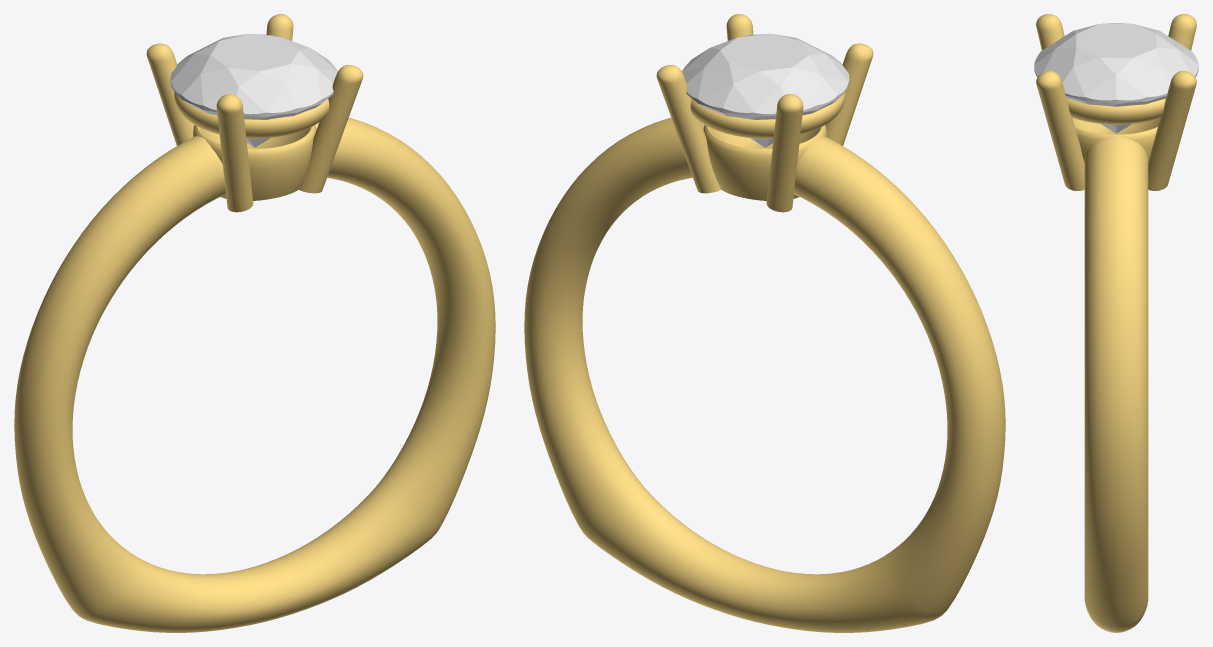
File: diamond-round-yellowgold-4prong-europeanshank-nosidestones.glb
The picture shows the model from 3 angles, left to right: view 1: azimuth 30°, elevation 25°; view 2: azimuth 150°, elevation 25°; view 3: azimuth 270°, elevation 25°; orthographic projection. The views are drawn at different scales.
Parts seen in each view (by area): view 1: RoundEuroShankNoStones, Roundstone; view 2: RoundEuroShankNoStones, Roundstone; view 3: RoundEuroShankNoStones, Roundstone.
Part boxes in pixels (x1,y1,x2,y2): RoundEuroShankNoStones: (14,14,495,632); Roundstone: (170,33,337,147); RoundEuroShankNoStones: (524,14,1005,632); Roundstone: (682,33,849,147); RoundEuroShankNoStones: (1036,14,1196,632); Roundstone: (1034,23,1198,133).
Size of the model in its own units: 20.7 by 23.81 by 6.44.
